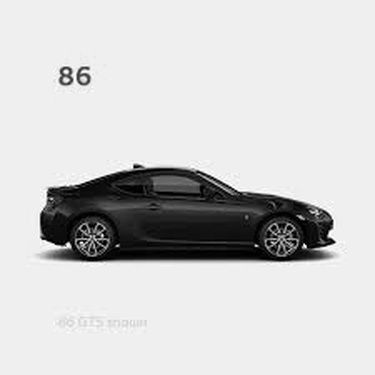car: (1, 137, 365, 278)
